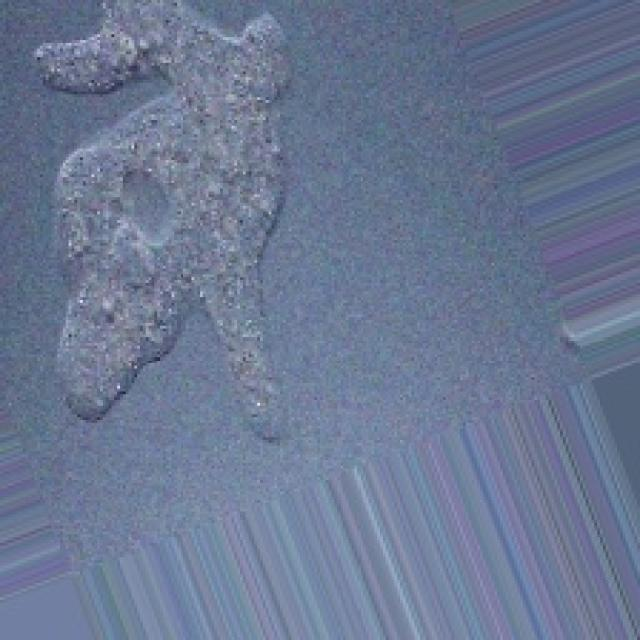Amoeba: (29, 0, 294, 443)
